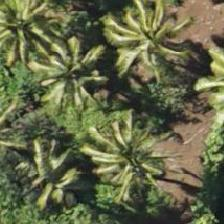coconut_tree: (81, 108, 171, 198), (12, 124, 102, 214), (29, 26, 119, 116), (98, 0, 188, 74), (0, 0, 63, 66)
